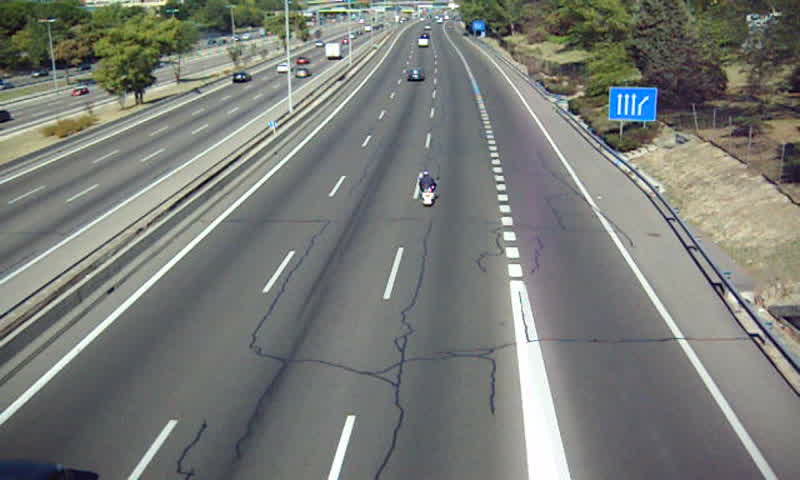car: (405, 68, 427, 84)
motorcycle: (416, 170, 438, 206)
